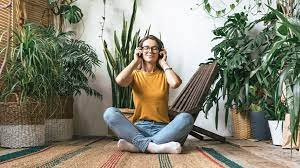person: (103, 35, 199, 159)
